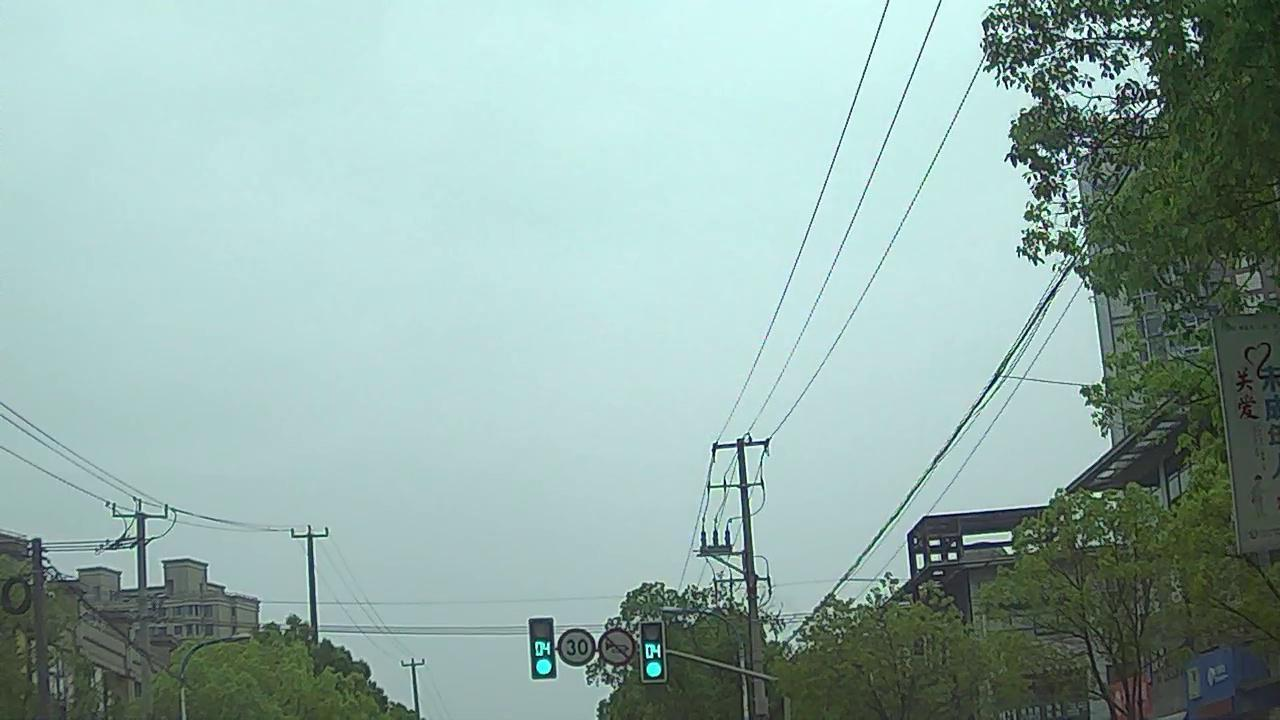traffic_light: (643, 622, 664, 682), (533, 619, 554, 677)
